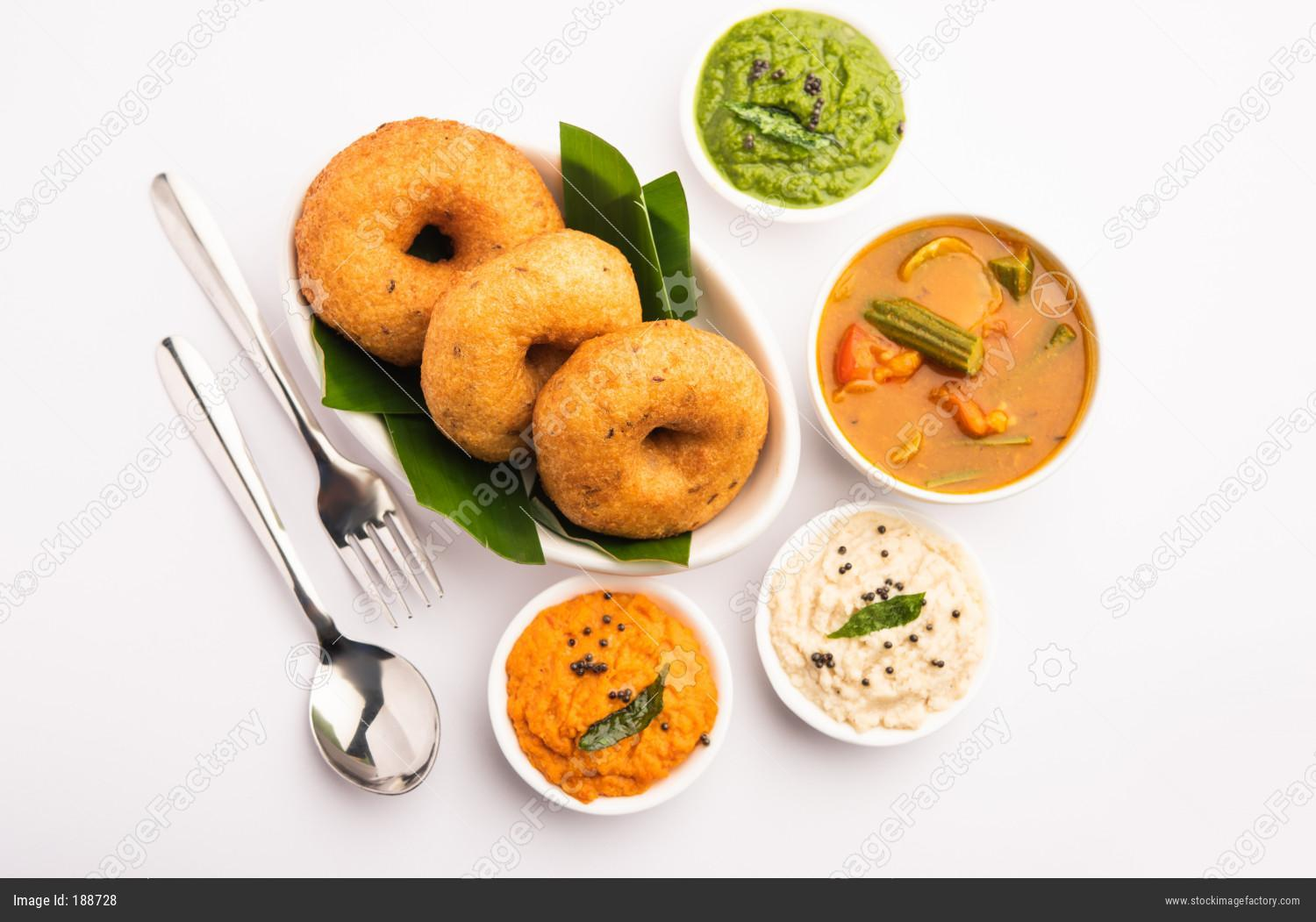mvada: (369, 179, 612, 424)
